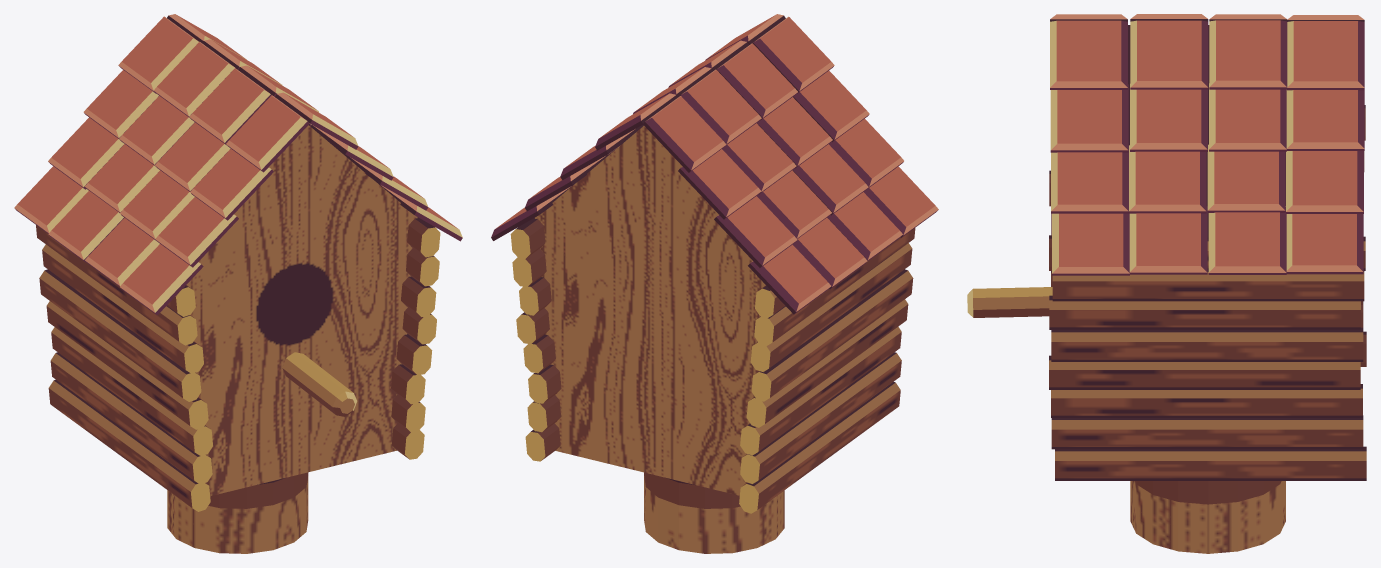
Rendered from Birbhouse.fbx.
3 views of the same model, side by side, from view 1: azimuth 30°, elevation 25°; view 2: azimuth 150°, elevation 25°; view 3: azimuth 270°, elevation 25° (orthographic). The views are drawn at different scales.
Visible parts, largest first — view 1: Birbhouse; view 2: Birbhouse; view 3: Birbhouse.
Boxes of the visible parts, <box> form: Birbhouse: <box>14,14,462,553</box>; Birbhouse: <box>491,14,938,553</box>; Birbhouse: <box>967,14,1366,553</box>.
Size of the model in its own units: 250 by 357 by 256.
